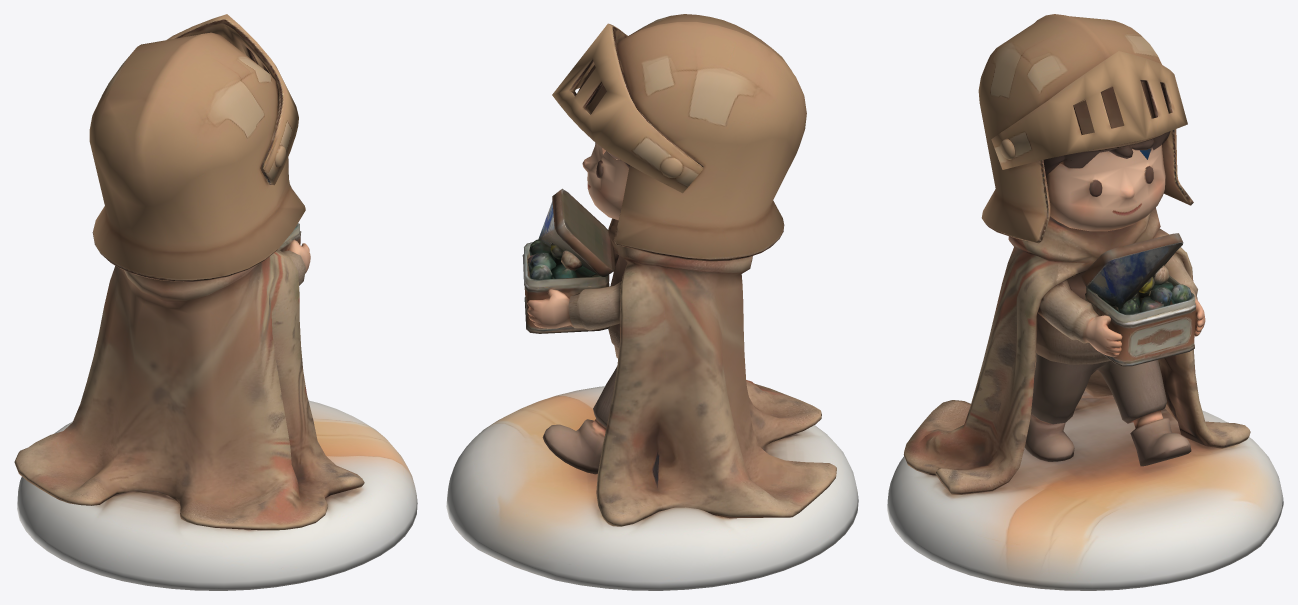
File: figurine-dawn-station-embrace.glb
The picture shows the model from 3 angles, left to right: view 1: azimuth 30°, elevation 25°; view 2: azimuth 150°, elevation 25°; view 3: azimuth 270°, elevation 25°; orthographic projection. The views are drawn at different scales.
Parts seen in each view (by area): view 1: tripo_node_edd17573-4259-40e9-8015-caf3a53c5701; view 2: tripo_node_edd17573-4259-40e9-8015-caf3a53c5701; view 3: tripo_node_edd17573-4259-40e9-8015-caf3a53c5701.
Part boxes in pixels (box(x1,y1,x2,y2)): tripo_node_edd17573-4259-40e9-8015-caf3a53c5701: box(14, 14, 417, 590); tripo_node_edd17573-4259-40e9-8015-caf3a53c5701: box(446, 14, 858, 590); tripo_node_edd17573-4259-40e9-8015-caf3a53c5701: box(887, 14, 1283, 590).
Size of the model in its own units: 0.7647 by 0.9995 by 0.7643.
Materials: 1 (1 with a texture image).
